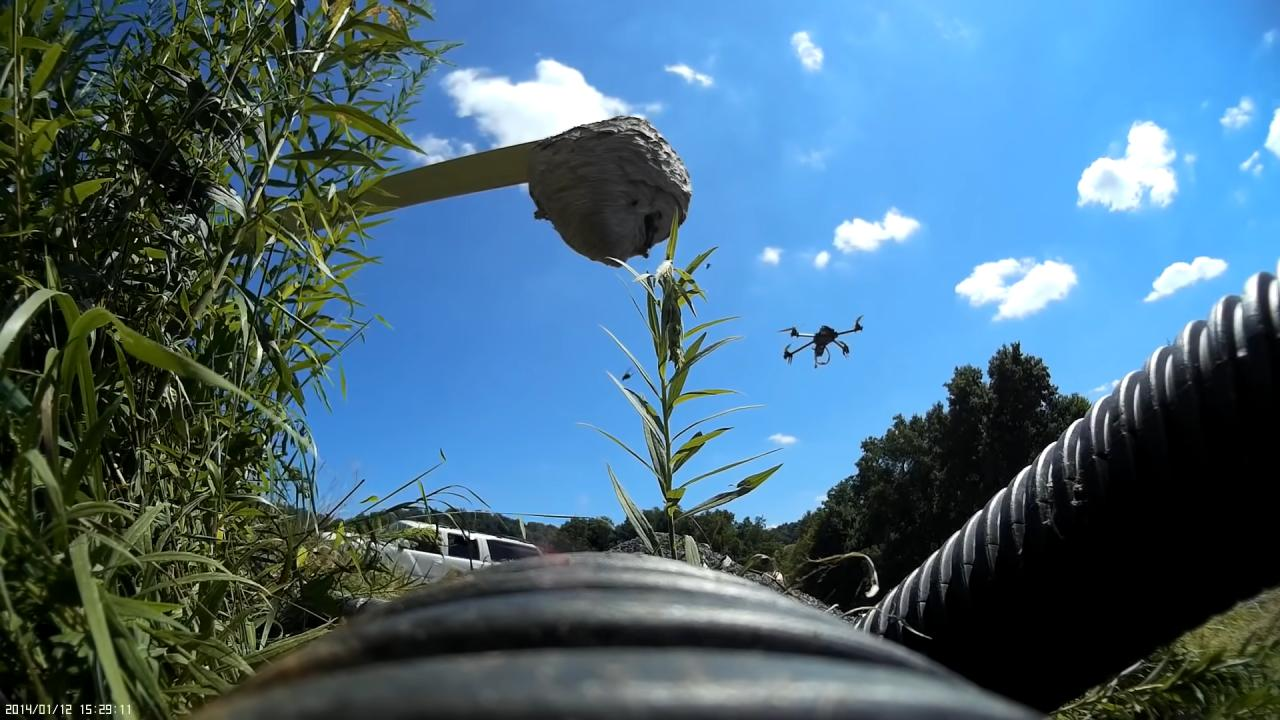Drone: (770, 306, 874, 379)
